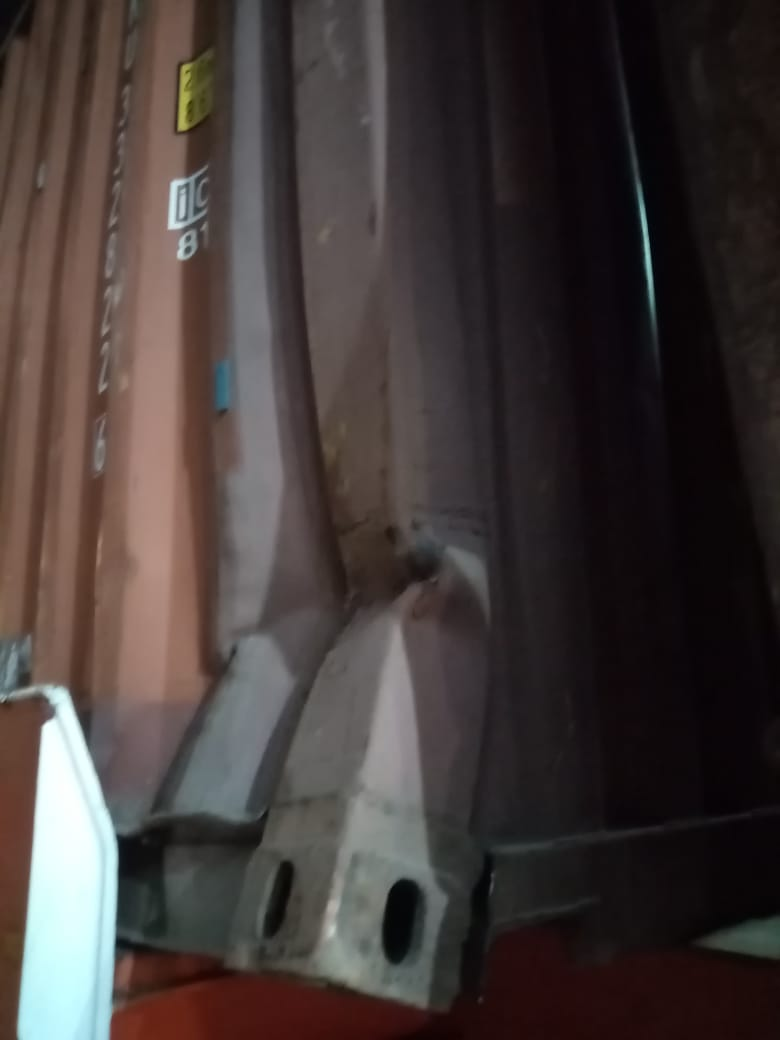moderate: (142, 379, 535, 836)
